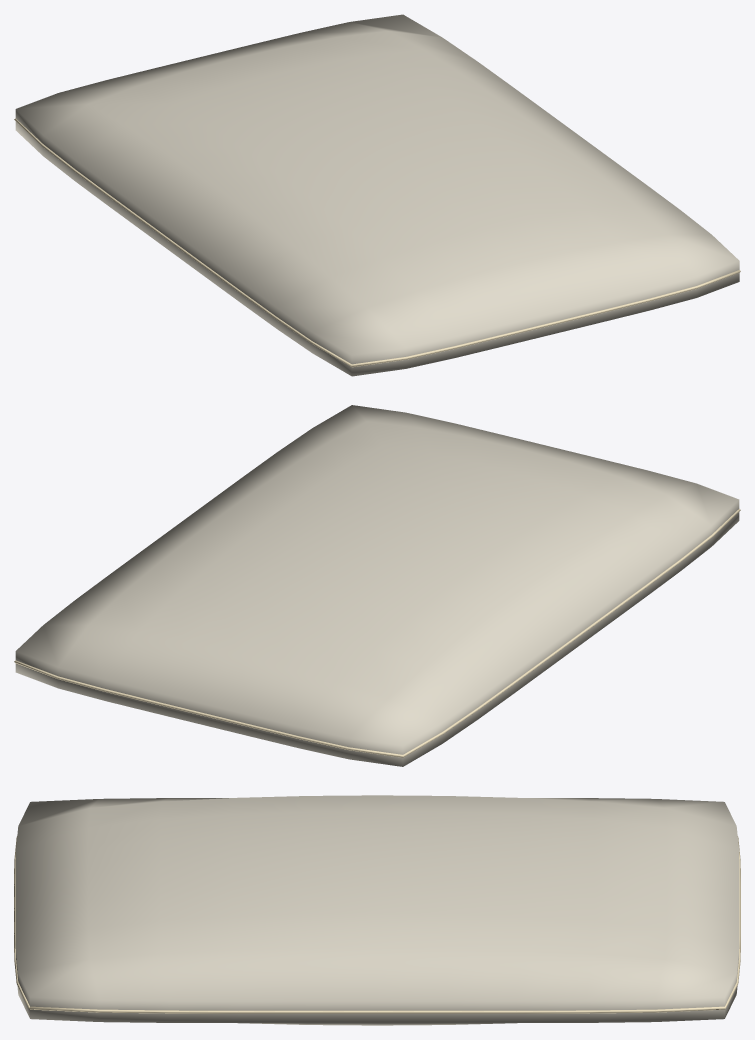
File: oreiller.glb
The picture shows the model from 3 angles, top to bottom: view 1: azimuth 30°, elevation 25°; view 2: azimuth 150°, elevation 25°; view 3: azimuth 270°, elevation 25°; orthographic projection. The views are drawn at different scales.
Parts seen in each view (by area): view 1: oreiller; view 2: oreiller; view 3: oreiller.
Boxes of the visible parts, <box> form: oreiller: <box>14,14,740,376</box>; oreiller: <box>14,405,740,766</box>; oreiller: <box>14,795,740,1025</box>.
Size of the model in its own units: 0.4 by 0.1 by 0.6.
